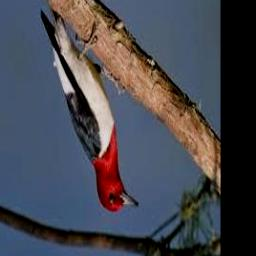Woodpecker: (40, 1, 139, 213)
